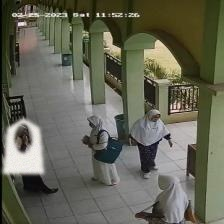Mukena: (2, 117, 44, 174)
